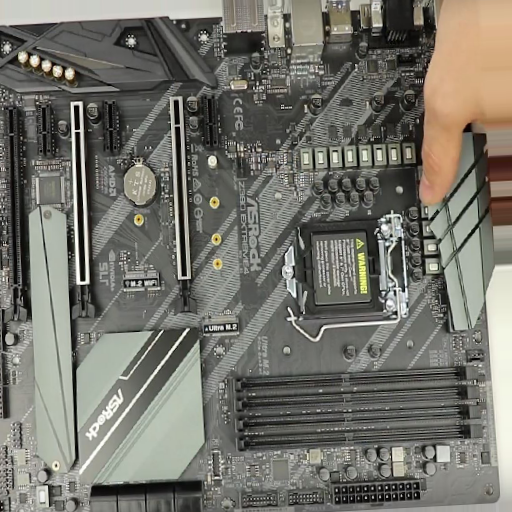CPU: (278, 212, 398, 326)
GPU: (168, 94, 202, 316), (66, 100, 99, 321), (1, 105, 31, 325)
MOTHERBOARD: (2, 5, 506, 505)
RAM: (228, 365, 485, 453)
SSD: (200, 310, 242, 338), (121, 267, 159, 293)
